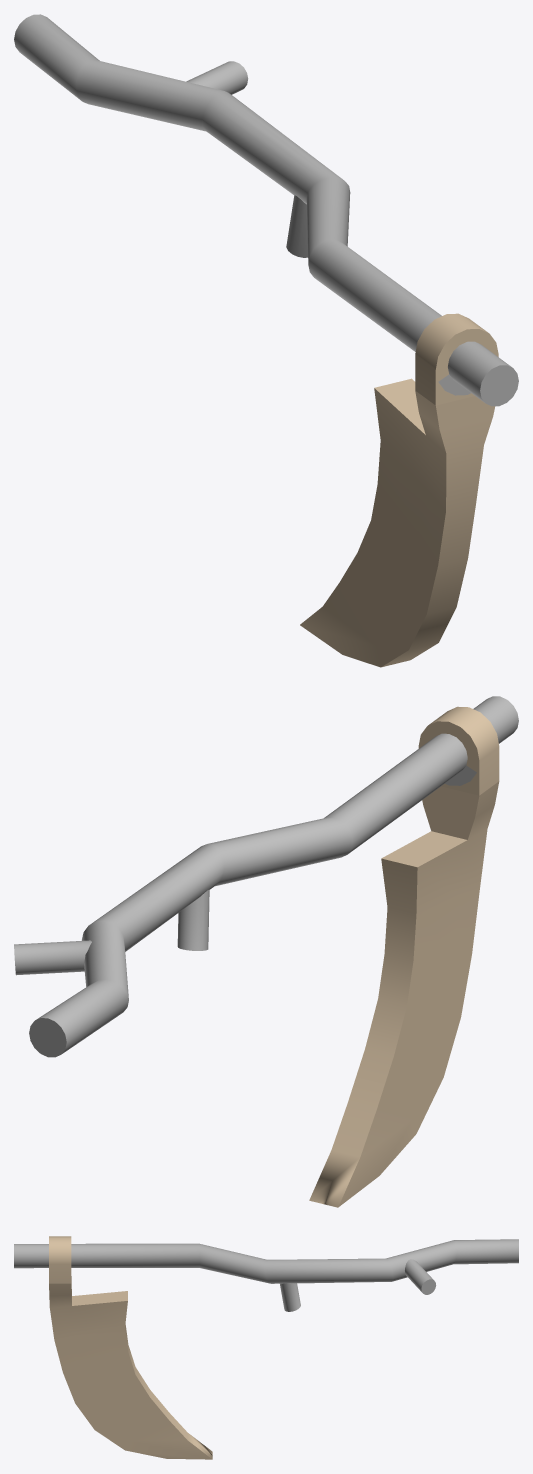
File: scythe_02.fbx
The picture shows the model from 3 angles, top to bottom: view 1: azimuth 30°, elevation 25°; view 2: azimuth 150°, elevation 25°; view 3: azimuth 270°, elevation 25°; orthographic projection. The views are drawn at different scales.
Visible parts, largest first — view 1: scythe_02; view 2: scythe_02; view 3: scythe_02.
Boxes of the visible parts, left/top/right/bottom form: scythe_02: left=14, top=14, right=518, bottom=667; scythe_02: left=14, top=696, right=518, bottom=1207; scythe_02: left=14, top=1236, right=518, bottom=1459.
Bounding box in the file's own units: 16.67 × 40.93 × 86.01.
